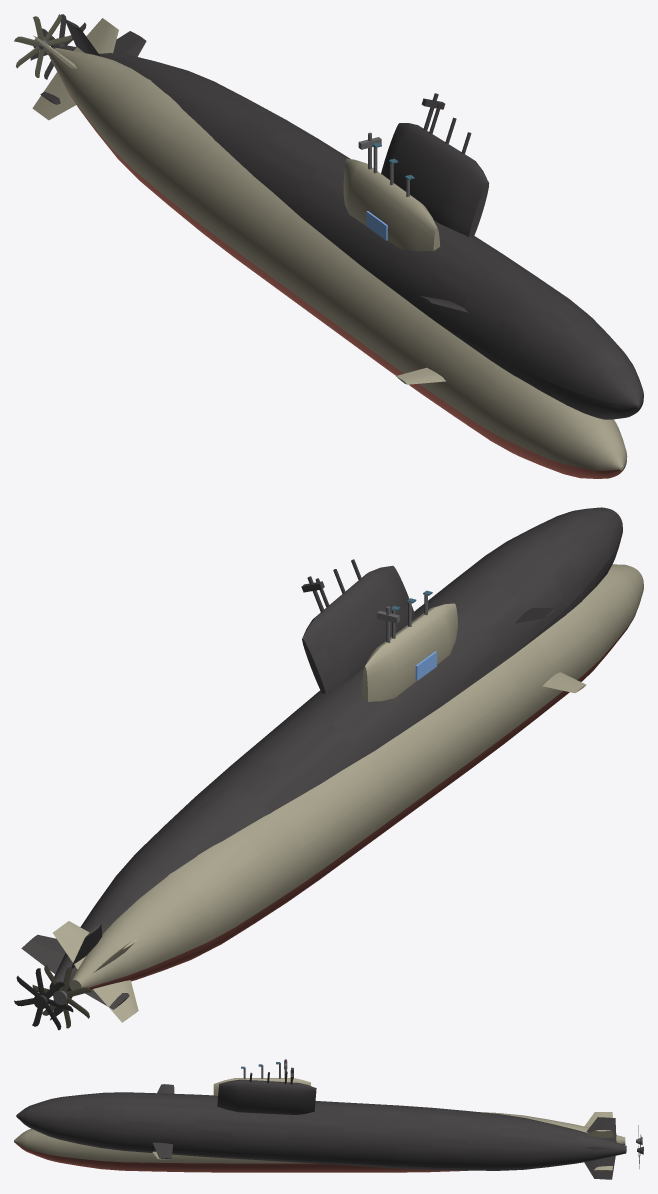
The model's file is submarine__dolphin_ii.glb.
3 renders of one model, top to bottom at view 1: azimuth 30°, elevation 25°; view 2: azimuth 150°, elevation 25°; view 3: azimuth 270°, elevation 25°, orthographic. The views are drawn at different scales.
Visible parts, largest first — view 1: Hull_Mesh, Wreck; view 2: Hull_Mesh, Wreck; view 3: Wreck, Hull_Mesh.
Part boxes in pixels (left/top/right/bottom): Hull_Mesh: left=14, top=14, right=627, bottom=478; Wreck: left=30, top=14, right=643, bottom=419; Hull_Mesh: left=32, top=564, right=643, bottom=1028; Wreck: left=14, top=507, right=622, bottom=1030; Wreck: left=16, top=1067, right=643, bottom=1179; Hull_Mesh: left=14, top=1062, right=642, bottom=1172.
Size of what is drawn, in the model's own units: 11.93 by 14.24 by 67.87.
